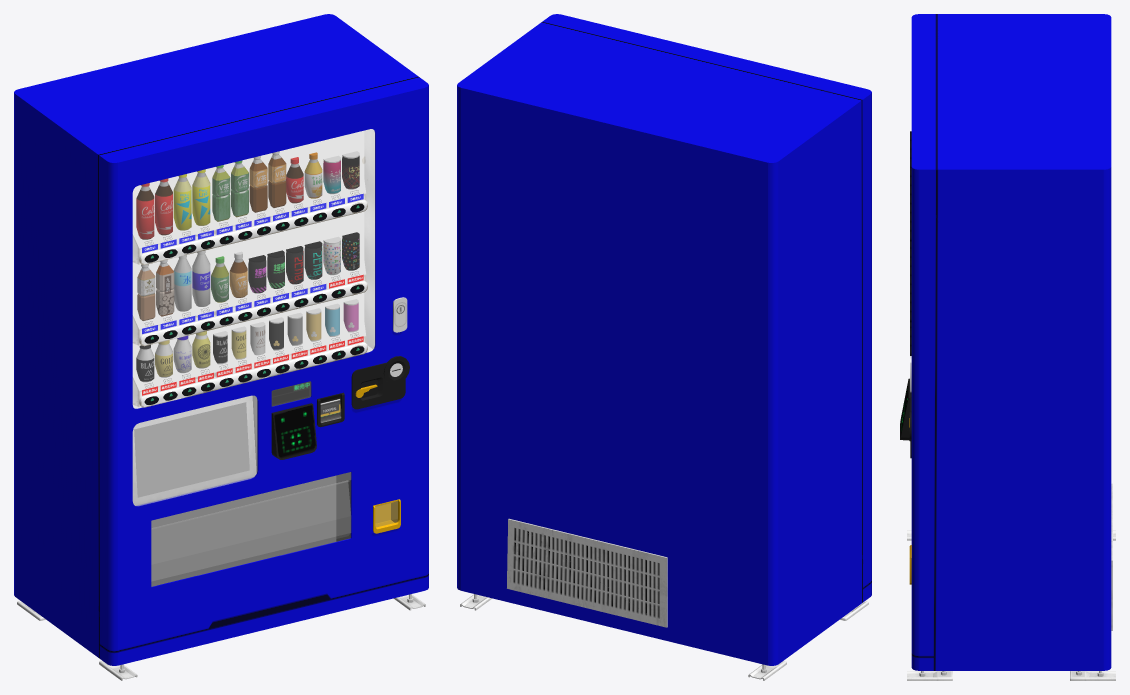
Rendered from VendingMachine.fbx.
3 renders of one model, left to right at view 1: azimuth 30°, elevation 25°; view 2: azimuth 150°, elevation 25°; view 3: azimuth 270°, elevation 25°, orthographic.
Parts seen in each view (by area): view 1: VendingMachine_LOD0, VendingMachineGlass, VendingMachineAdPanel; view 2: VendingMachine_LOD0; view 3: VendingMachine_LOD0.
Part boxes in pixels (x1,y1,x2,y2): VendingMachine_LOD0: [14, 14, 428, 680]; VendingMachineGlass: [133, 129, 397, 583]; VendingMachineAdPanel: [134, 402, 249, 497]; VendingMachine_LOD0: [457, 14, 871, 680]; VendingMachine_LOD0: [900, 14, 1115, 680].
Size of what is drawn, in the model's own units: 1.2 by 1.85 by 0.7028.
